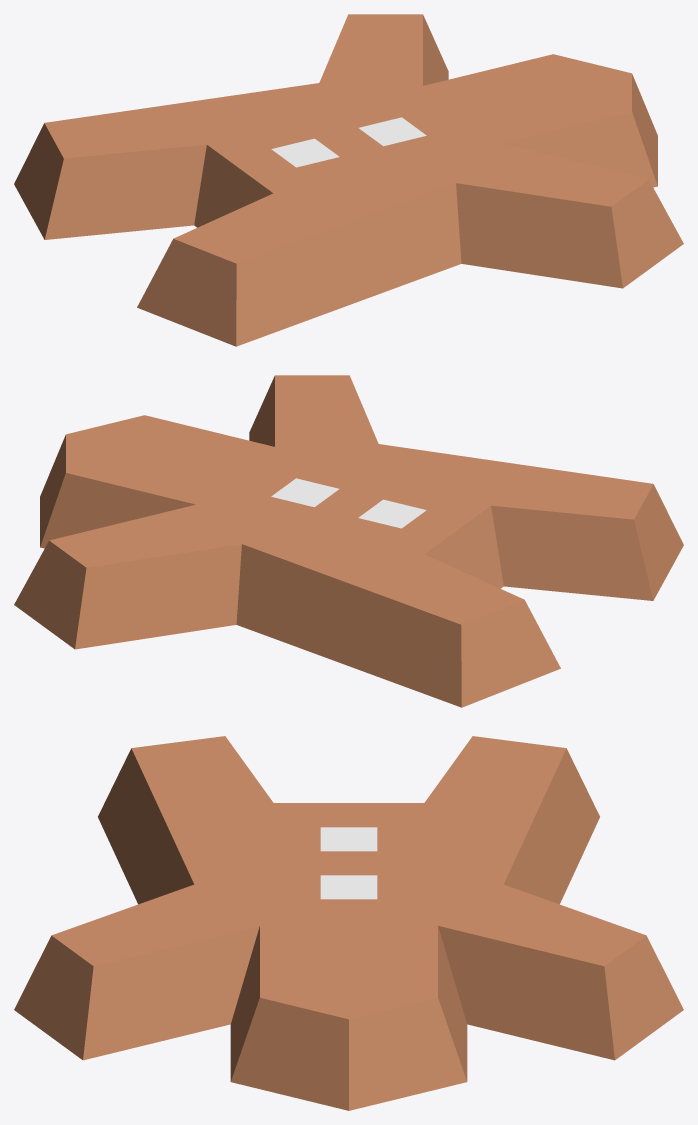
Rendered from gingerBread.obj.
3 renders of one model, top to bottom at view 1: azimuth 30°, elevation 25°; view 2: azimuth 150°, elevation 25°; view 3: azimuth 270°, elevation 25°, orthographic. The views are drawn at different scales.
Parts seen in each view (by area): view 1: gingerBread; view 2: gingerBread; view 3: gingerBread.
Boxes of the visible parts, box(x1,y1,x2,y2) form: gingerBread: box(14, 14, 683, 346); gingerBread: box(14, 375, 683, 707); gingerBread: box(14, 736, 683, 1110).
Size of the model in its own units: 0.2604 by 0.03 by 0.2356.
